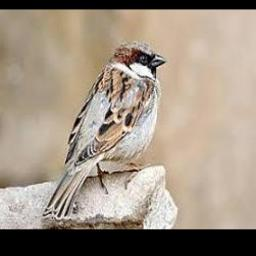Sparrow: (43, 40, 167, 219)
